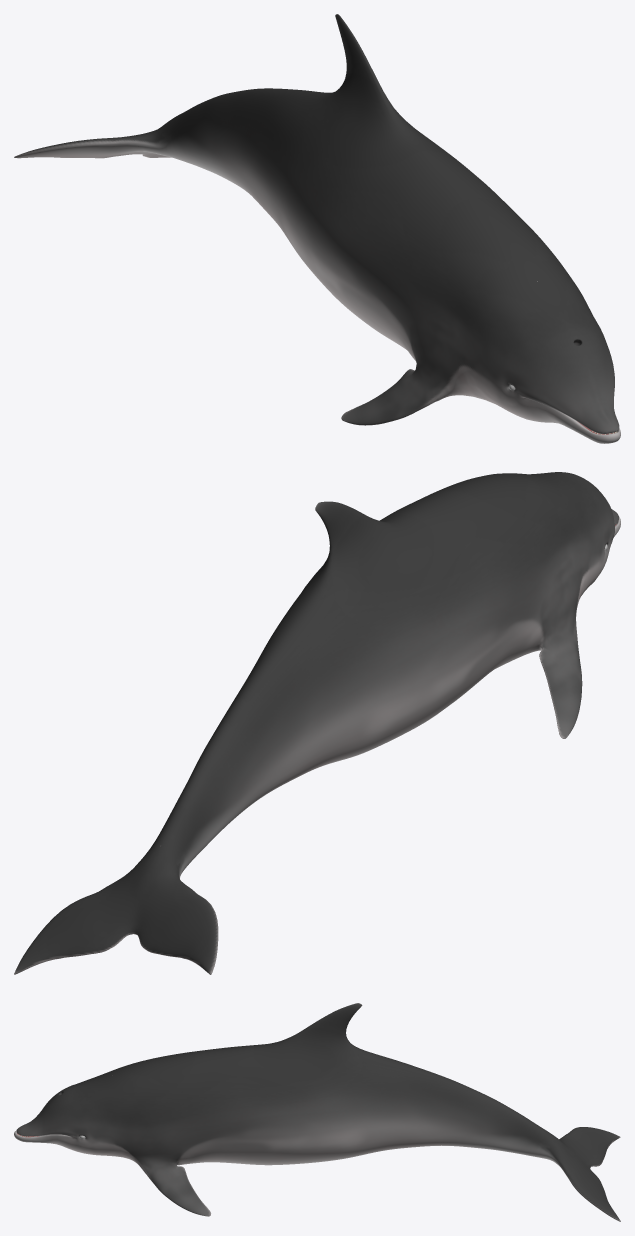
File: Dolphin_Animated.obj
3 views of the same model, one above another, from view 1: azimuth 30°, elevation 25°; view 2: azimuth 150°, elevation 25°; view 3: azimuth 270°, elevation 25° (orthographic). The views are drawn at different scales.
Visible parts, largest first — view 1: Dolphin_Mesh_Dolphin_Retopo_Low.012; view 2: Dolphin_Mesh_Dolphin_Retopo_Low.012; view 3: Dolphin_Mesh_Dolphin_Retopo_Low.012.
Boxes of the visible parts, x1=… form: Dolphin_Mesh_Dolphin_Retopo_Low.012: x1=14, y1=14, x2=620, y2=443; Dolphin_Mesh_Dolphin_Retopo_Low.012: x1=14, y1=472, x2=620, y2=974; Dolphin_Mesh_Dolphin_Retopo_Low.012: x1=14, y1=1003, x2=620, y2=1221.
Size of the model in its own units: 1.15 by 1.7 by 4.8.
